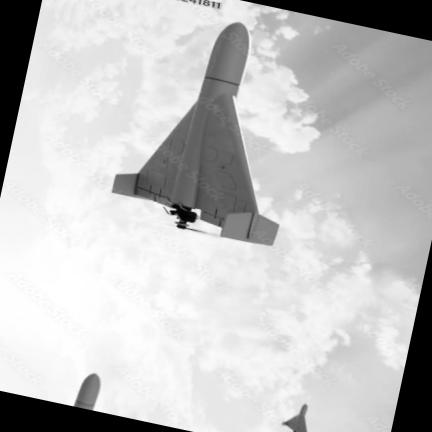Shahed: (111, 23, 278, 246), (74, 374, 100, 409), (282, 404, 306, 431)
